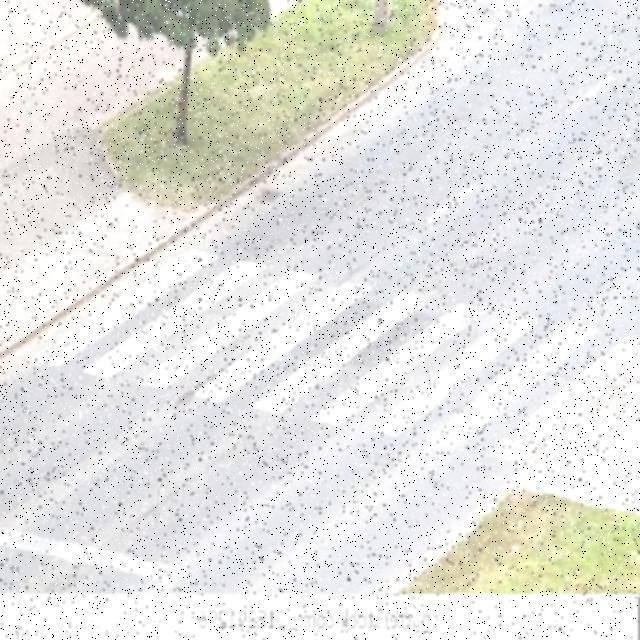Pedestrian crosswalk: (28, 240, 640, 464)
